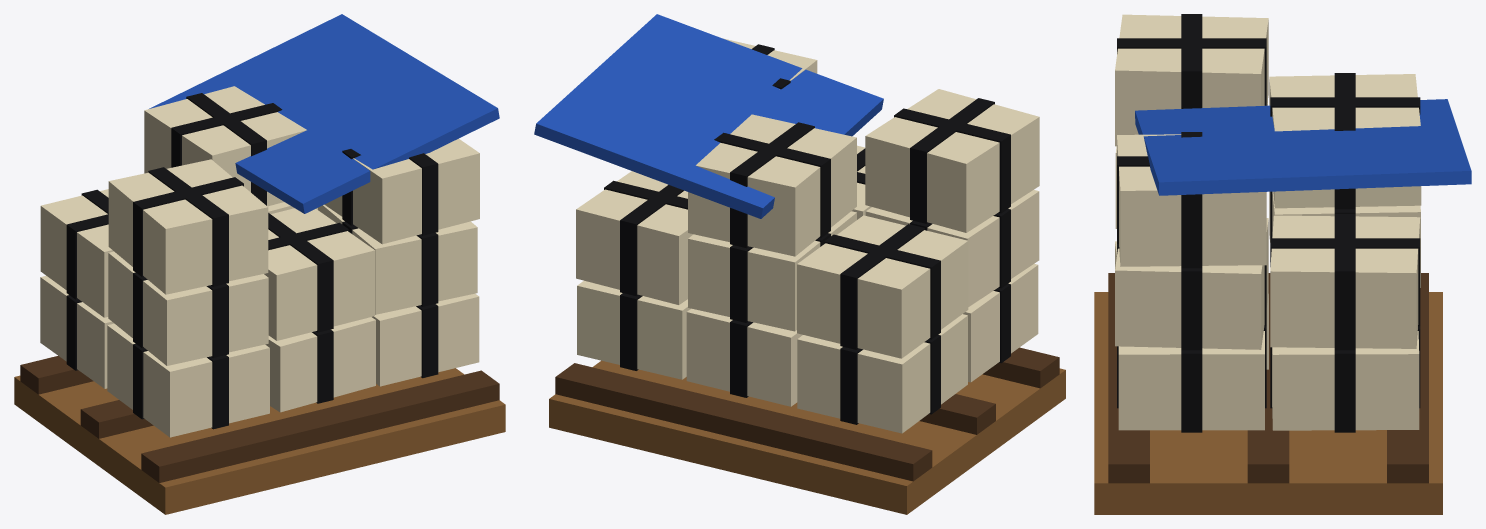
File: Carga de paquetes.fbx
3 views of the same model, side by side, from view 1: azimuth 30°, elevation 25°; view 2: azimuth 150°, elevation 25°; view 3: azimuth 270°, elevation 25° (orthographic). The views are drawn at different scales.
Visible parts, largest first — view 1: Carga de paquetes; view 2: Carga de paquetes; view 3: Carga de paquetes.
Boxes of the visible parts, bbox=[...] form: Carga de paquetes: bbox=[14, 14, 505, 514]; Carga de paquetes: bbox=[534, 14, 1065, 514]; Carga de paquetes: bbox=[1094, 14, 1471, 514].
Bounding box in the file's own units: 1.39 × 1.09 × 1.08.
